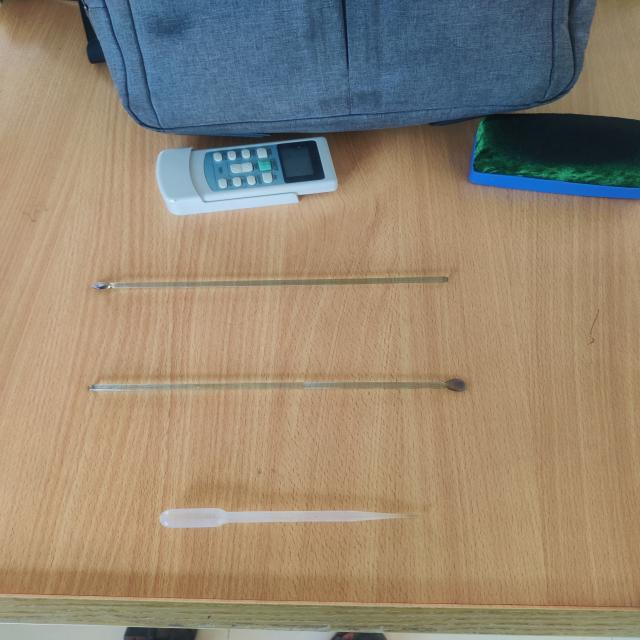Glass_Rod: (62, 351, 502, 423), (69, 255, 495, 313)
Pipette: (137, 466, 423, 566)
